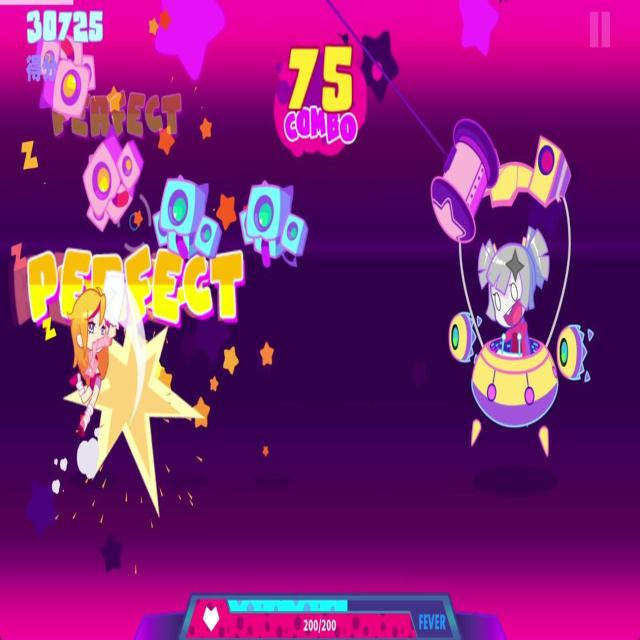cheboss: (450, 134, 593, 469)
gu: (428, 118, 500, 252)
jiqi: (236, 175, 312, 273), (152, 175, 222, 272), (83, 128, 143, 231), (36, 36, 98, 124)
